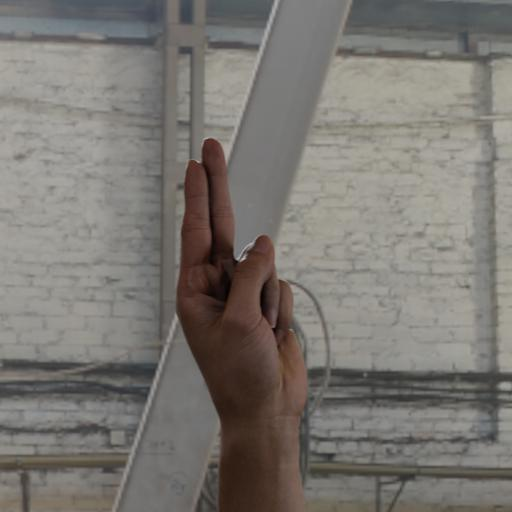U: (160, 130, 327, 437)
